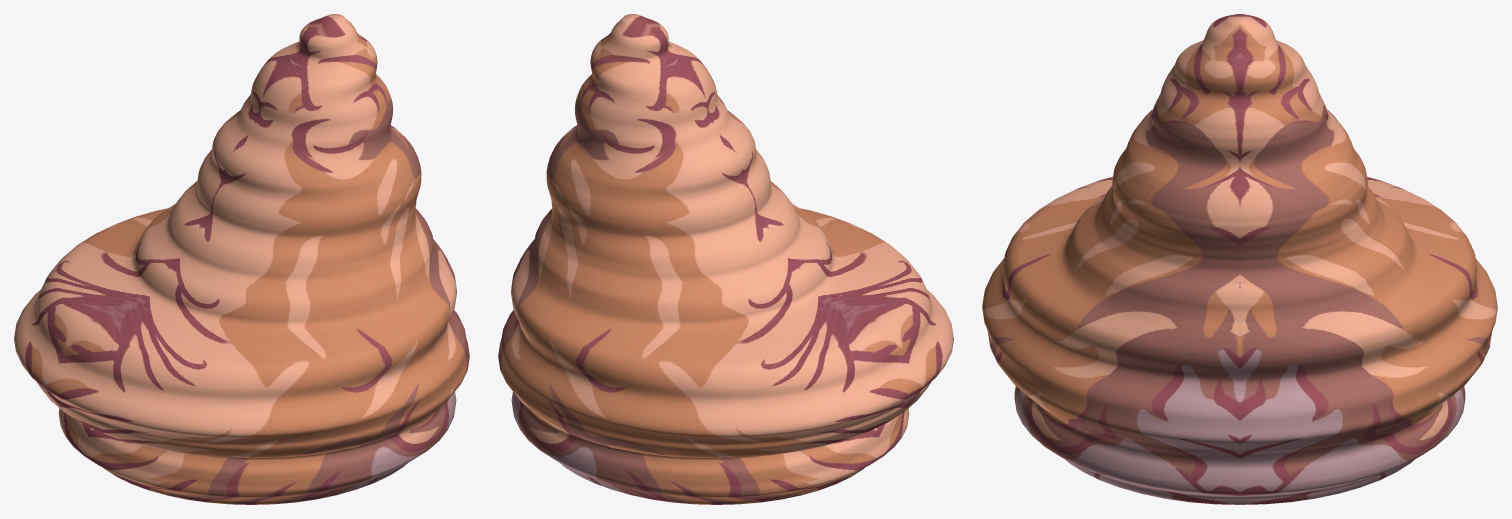
The model's file is coral_mound.glb.
The picture shows the model from 3 angles, left to right: view 1: azimuth 30°, elevation 25°; view 2: azimuth 150°, elevation 25°; view 3: azimuth 270°, elevation 25°; orthographic projection. The views are drawn at different scales.
Parts seen in each view (by area): view 1: coral_mound; view 2: coral_mound; view 3: coral_mound.
Part boxes in pixels (bbox=[...]): coral_mound: bbox=[14, 14, 469, 504]; coral_mound: bbox=[498, 14, 953, 504]; coral_mound: bbox=[982, 14, 1497, 504].
Bounding box in the file's own units: 0.996 × 1.02 × 0.984.
1 material, 1 textured.
